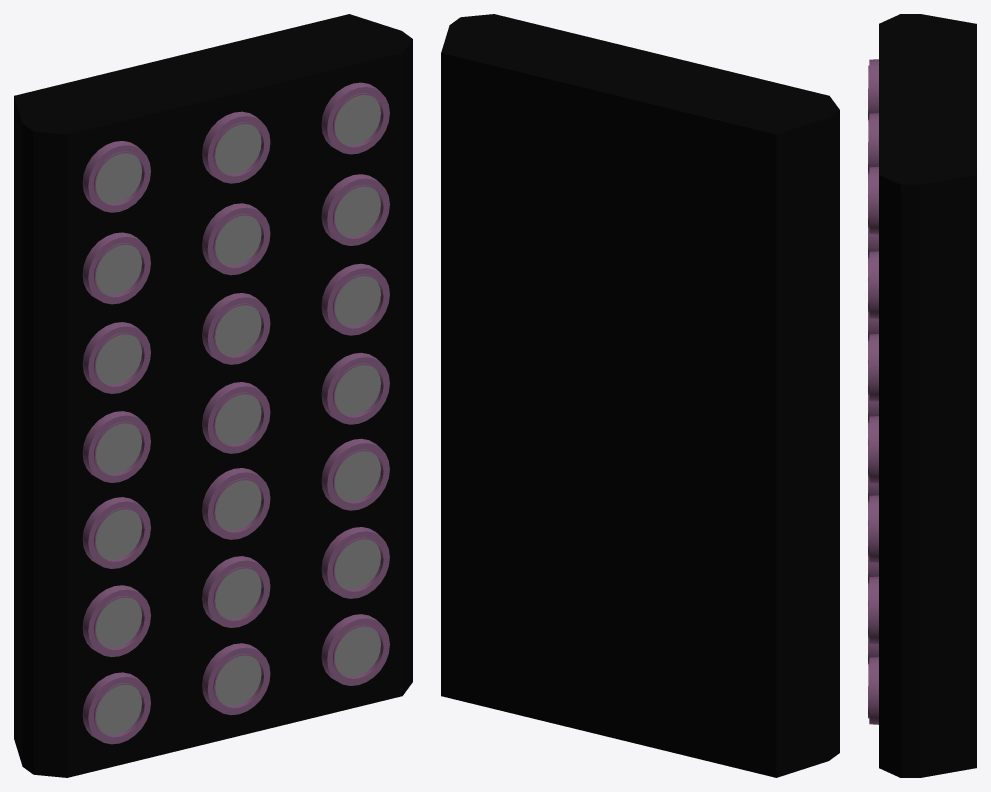
The model's file is lights.fbx.
The picture shows the model from 3 angles, left to right: view 1: azimuth 30°, elevation 25°; view 2: azimuth 150°, elevation 25°; view 3: azimuth 270°, elevation 25°; orthographic projection. The views are drawn at different scales.
Parts seen in each view (by area): view 1: Cube, SM_MovingHead_Head.004, SM_MovingHead_Head.001, SM_MovingHead_Head.005, SM_MovingHead_Head.002, SM_MovingHead_Head.003, SM_MovingHead_Head.021, SM_MovingHead_Head.006; view 2: Cube; view 3: Cube, SM_MovingHead_Head.006, SM_MovingHead_Head.005, SM_MovingHead_Head.004, SM_MovingHead_Head.003, SM_MovingHead_Head.001, SM_MovingHead_Head.021, SM_MovingHead_Head.002.
Boxes of the visible parts, x1,y1,x2,y2 form: Cube: [14, 14, 412, 777]; SM_MovingHead_Head.004: [82, 263, 389, 393]; SM_MovingHead_Head.001: [82, 527, 389, 657]; SM_MovingHead_Head.005: [82, 174, 389, 304]; SM_MovingHead_Head.002: [82, 438, 389, 568]; SM_MovingHead_Head.003: [82, 352, 389, 482]; SM_MovingHead_Head.021: [82, 614, 389, 744]; SM_MovingHead_Head.006: [82, 82, 389, 212]; Cube: [441, 14, 839, 777]; Cube: [879, 14, 976, 777]; SM_MovingHead_Head.006: [868, 59, 878, 234]; SM_MovingHead_Head.005: [868, 174, 878, 318]; SM_MovingHead_Head.004: [868, 259, 878, 401]; SM_MovingHead_Head.003: [868, 341, 878, 483]; SM_MovingHead_Head.001: [868, 503, 878, 644]; SM_MovingHead_Head.021: [868, 584, 878, 724]; SM_MovingHead_Head.002: [868, 423, 878, 562].
Size of the model in its own units: 216 by 350 by 58.12.
